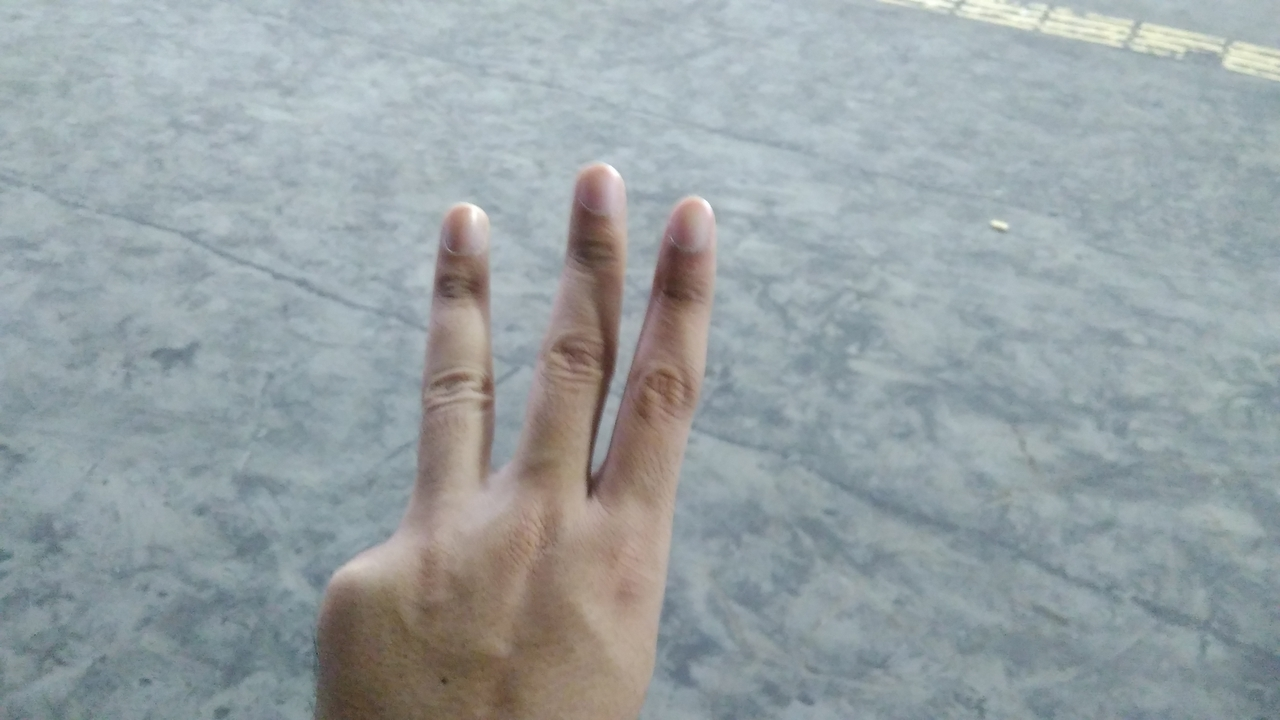fingertip: (564, 154, 632, 222), (656, 186, 722, 254), (428, 192, 494, 260)
